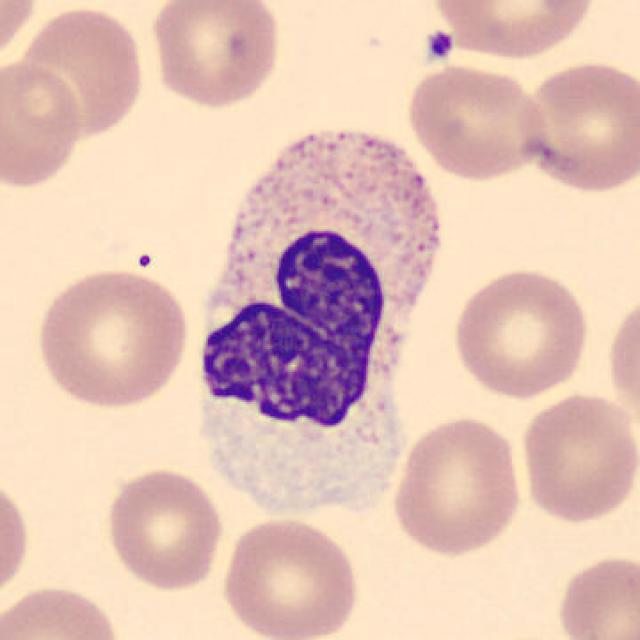Neutrophil: (183, 108, 459, 488)
Platelets: (419, 26, 457, 66)
RBC: (30, 264, 192, 412), (448, 263, 594, 402), (388, 412, 526, 559), (9, 2, 149, 141), (402, 60, 551, 183), (218, 513, 362, 640), (514, 56, 638, 196), (516, 388, 638, 527), (101, 464, 226, 592), (148, 0, 284, 111), (0, 56, 85, 190), (429, 0, 599, 60), (553, 550, 638, 640), (0, 582, 124, 640), (604, 289, 640, 434), (0, 469, 34, 608), (0, 0, 41, 71)
